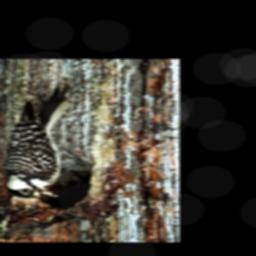Woodpecker: (5, 84, 73, 200)
